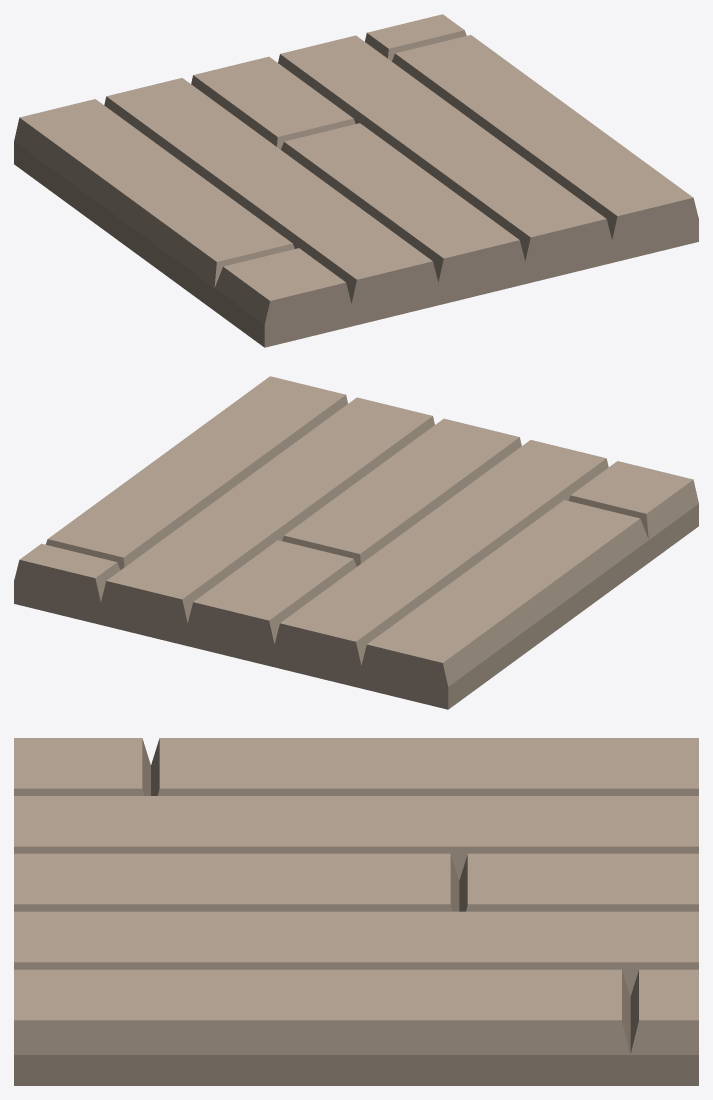
Rendered from Wood_Floor_Straight_2.glb.
3 views of the same model, one above another, from view 1: azimuth 30°, elevation 25°; view 2: azimuth 150°, elevation 25°; view 3: azimuth 270°, elevation 25° (orthographic). The views are drawn at different scales.
Visible parts, largest first — view 1: object1; view 2: object1; view 3: object1.
Boxes of the visible parts, x1,y1,x2,y2 form: object1: (14, 14, 698, 347); object1: (14, 376, 698, 709); object1: (14, 738, 698, 1085).
Bounding box in the file's own units: 1 × 0.1 × 1.
